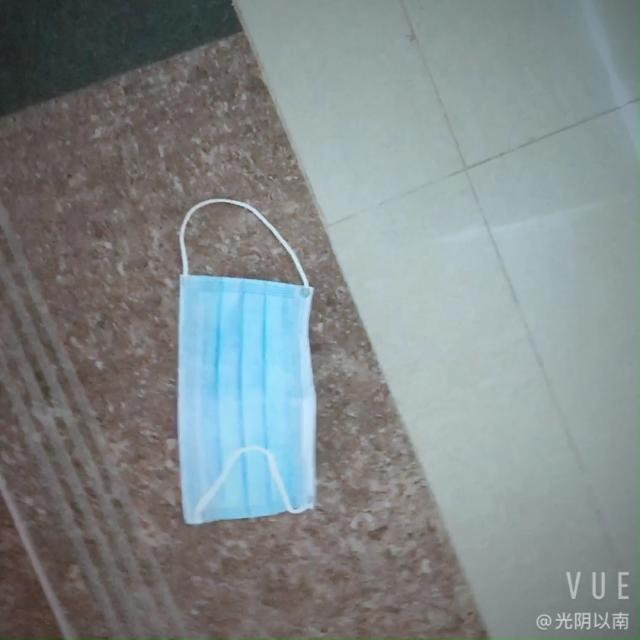non-organic waste: (143, 264, 324, 536)
